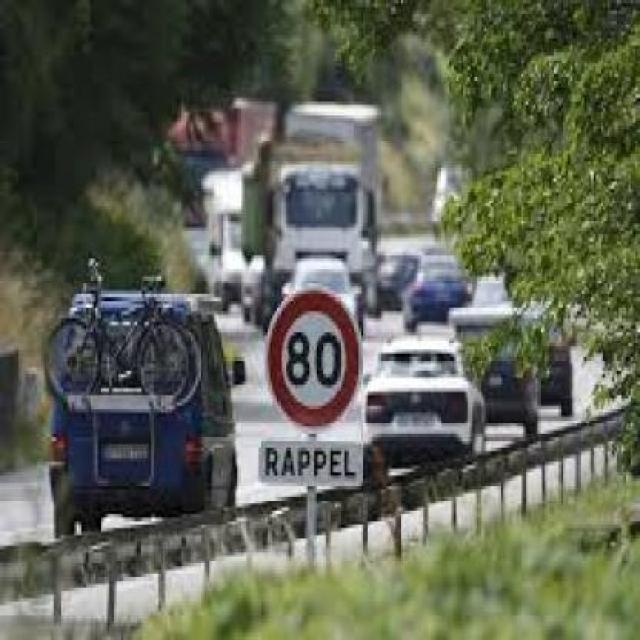forb_speed_over_80: (267, 293, 362, 425)
